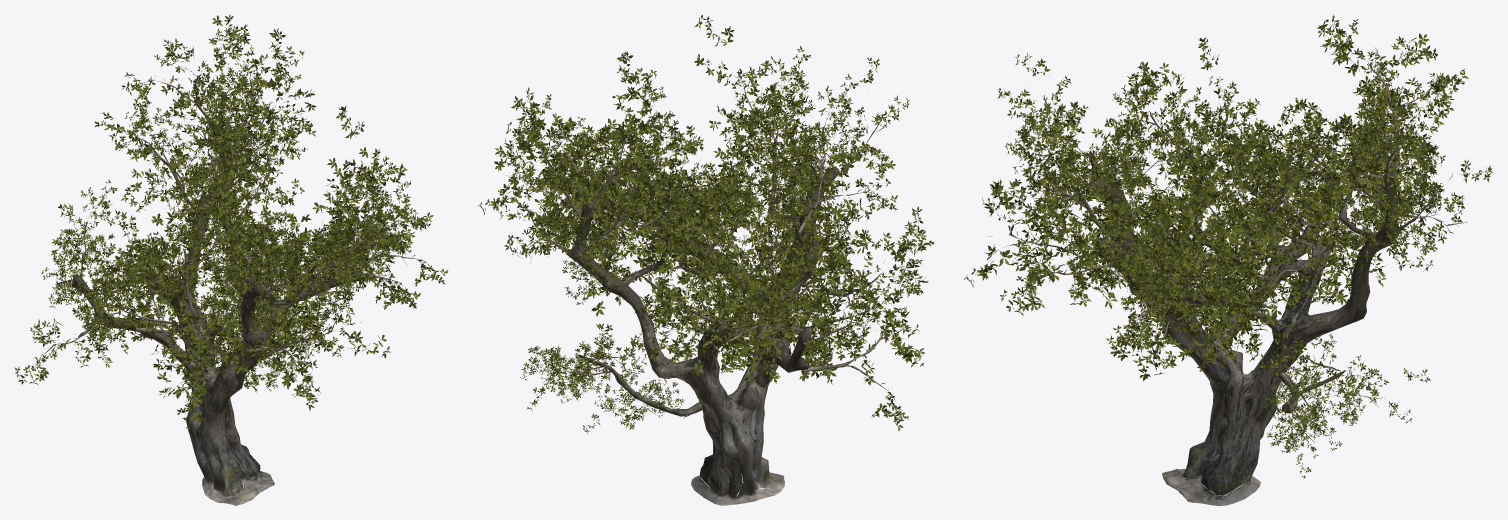
Rendered from orchard-tree-near.glb.
The picture shows the model from 3 angles, left to right: view 1: azimuth 30°, elevation 25°; view 2: azimuth 150°, elevation 25°; view 3: azimuth 270°, elevation 25°; orthographic projection. The views are drawn at different scales.
Visible parts, largest first — view 1: Orchard_leaves_near, Orchard_trunk_near, Orchard_branches_near; view 2: Orchard_leaves_near, Orchard_trunk_near, Orchard_branches_near; view 3: Orchard_leaves_near, Orchard_trunk_near, Orchard_branches_near.
Boxes of the visible parts, box(x1,y1,x2,y2) form: Orchard_leaves_near: box(14, 14, 448, 433); Orchard_trunk_near: box(71, 127, 373, 505); Orchard_branches_near: box(25, 21, 439, 419); Orchard_leaves_near: box(478, 15, 934, 433); Orchard_trunk_near: box(566, 140, 839, 505); Orchard_branches_near: box(492, 23, 923, 424); Orchard_leaves_near: box(964, 14, 1493, 478); Orchard_trunk_near: box(1072, 145, 1399, 505); Orchard_branches_near: box(986, 21, 1485, 469).
Size of the model in its own units: 4.76 by 5.03 by 4.82.
3 materials, 3 textured.
